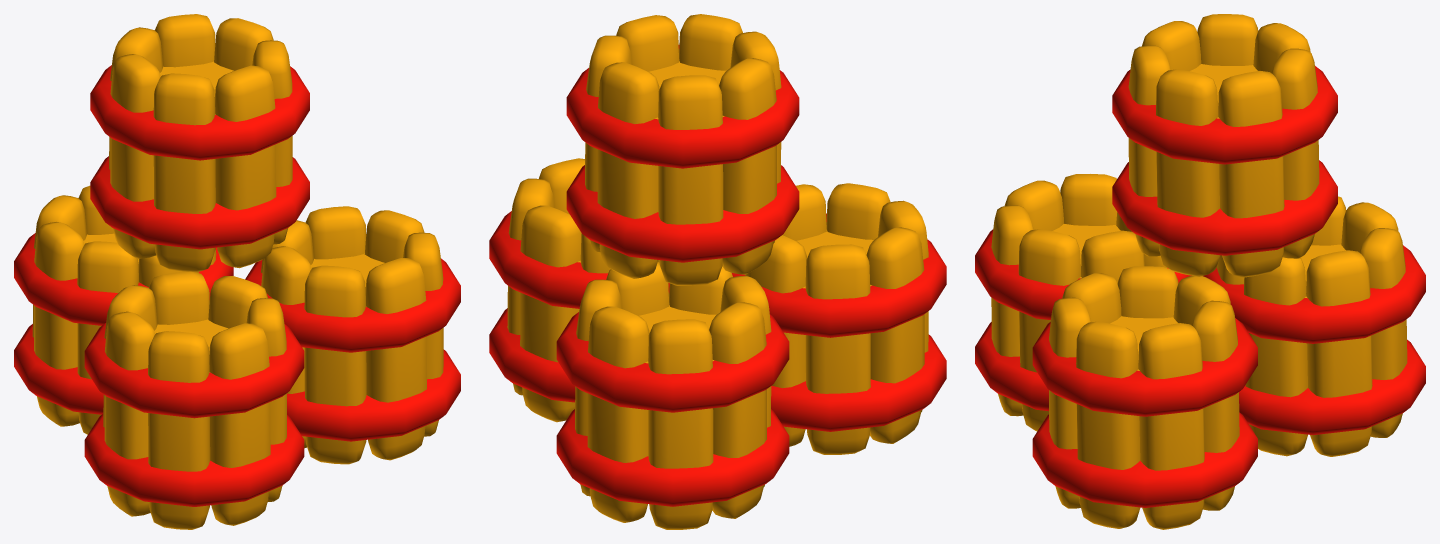
Rendered from tonneauclean.fbx.
The picture shows the model from 3 angles, left to right: view 1: azimuth 30°, elevation 25°; view 2: azimuth 150°, elevation 25°; view 3: azimuth 270°, elevation 25°; orthographic projection. The views are drawn at different scales.
Visible parts, largest first — view 1: tonneau.pack; view 2: tonneau.pack; view 3: tonneau.pack.
Part boxes in pixels (left/top/right/bottom): tonneau.pack: left=14, top=14, right=460, bottom=529; tonneau.pack: left=489, top=14, right=946, bottom=529; tonneau.pack: left=975, top=14, right=1425, bottom=529.
Size of the model in its own units: 284 by 280 by 274.
